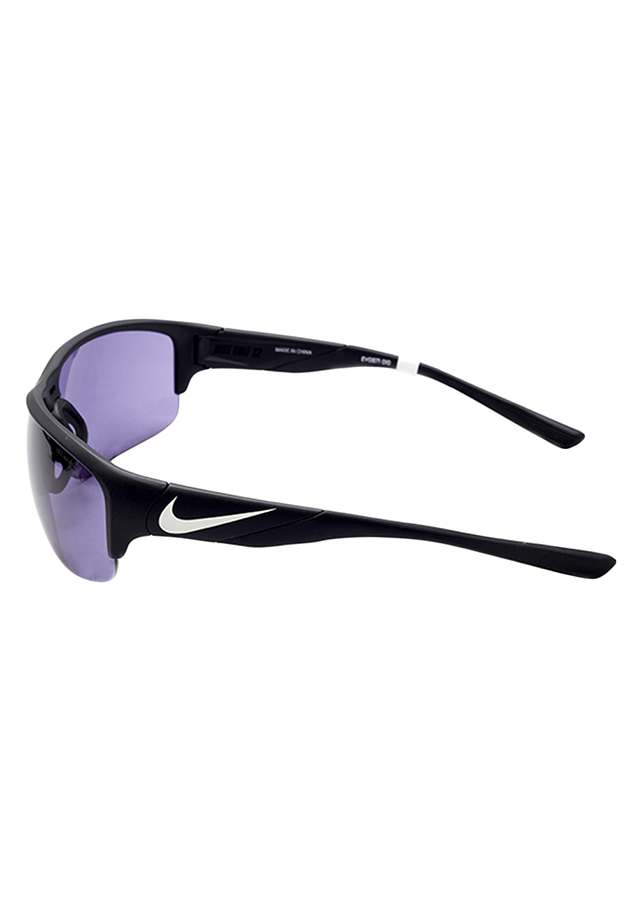Nike: (156, 491, 280, 540)
